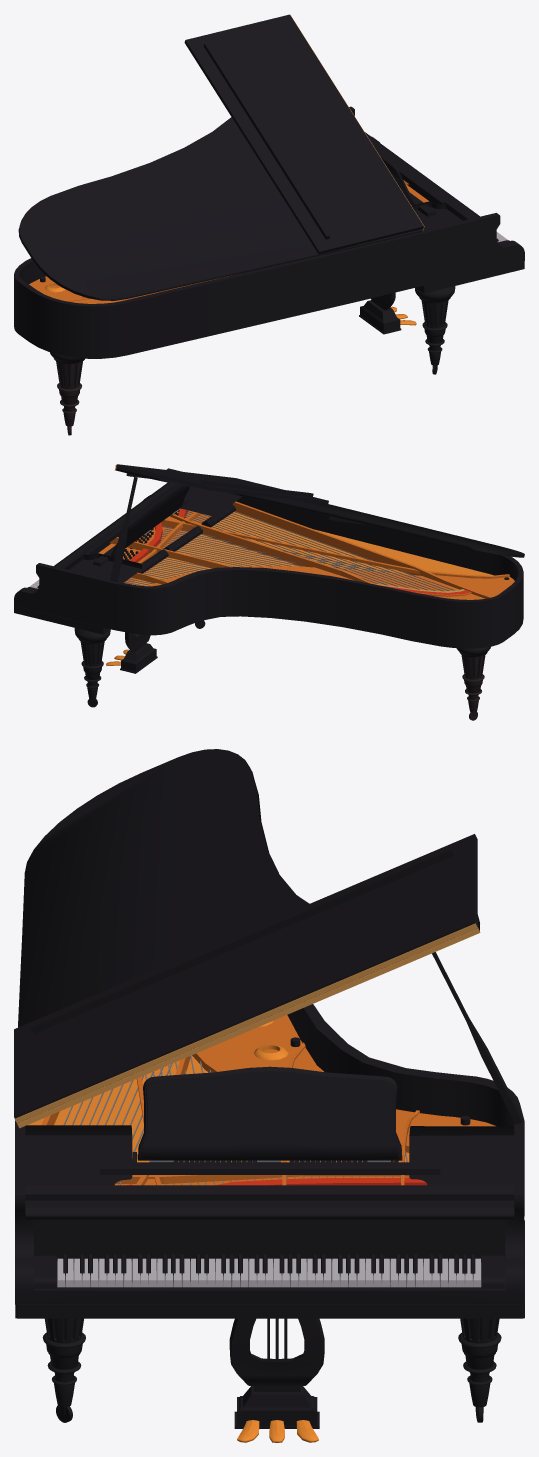
File: Piano_1.fbx
The picture shows the model from 3 angles, top to bottom: view 1: azimuth 30°, elevation 25°; view 2: azimuth 150°, elevation 25°; view 3: azimuth 270°, elevation 25°; orthographic projection. The views are drawn at different scales.
Visible parts, largest first — view 1: Piano_1; view 2: Piano_1; view 3: Piano_1.
Part boxes in pixels (bbox=[...]): Piano_1: bbox=[14, 14, 524, 435]; Piano_1: bbox=[14, 464, 524, 720]; Piano_1: bbox=[14, 749, 524, 1442].
Bounding box in the file's own units: 680 × 398 × 385.
